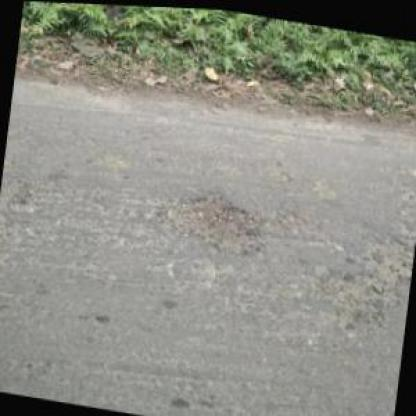pothole: (151, 180, 269, 257), (312, 262, 405, 320)
